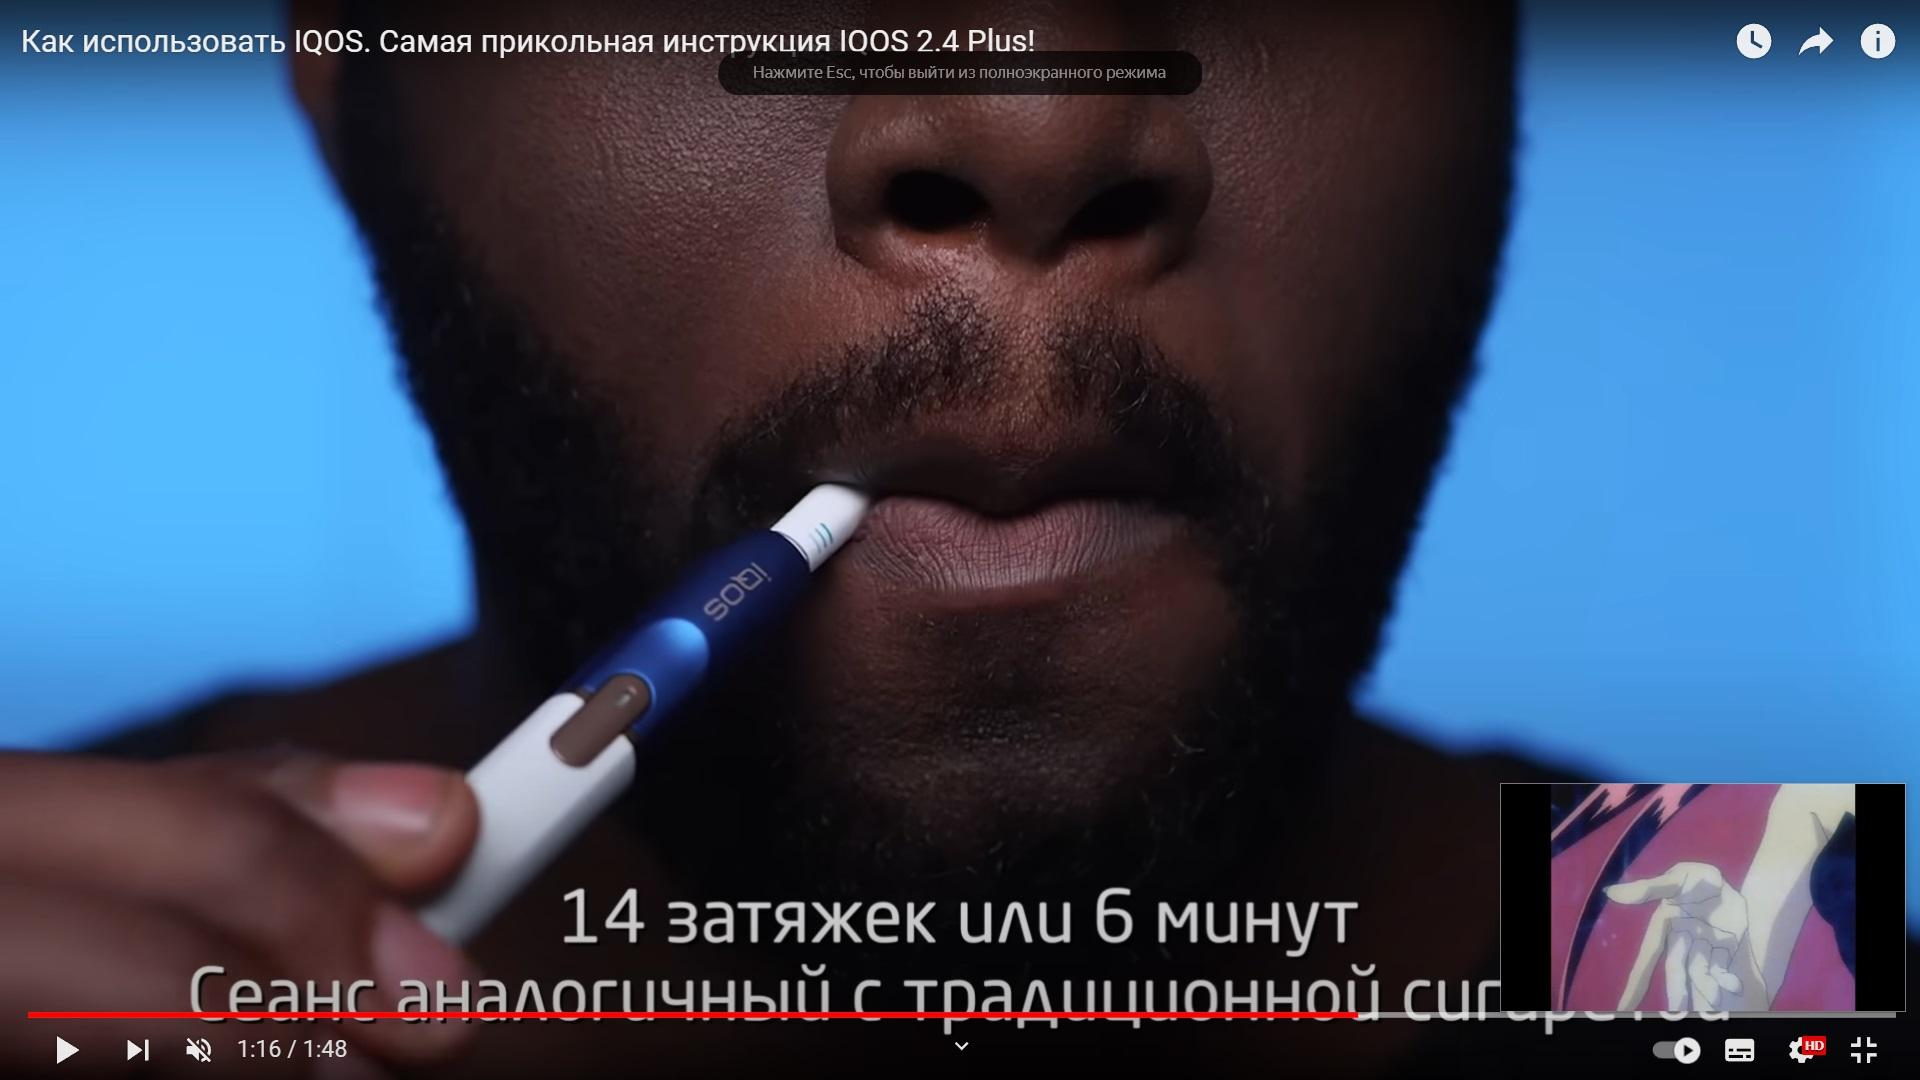iqos: (422, 484, 868, 943)
